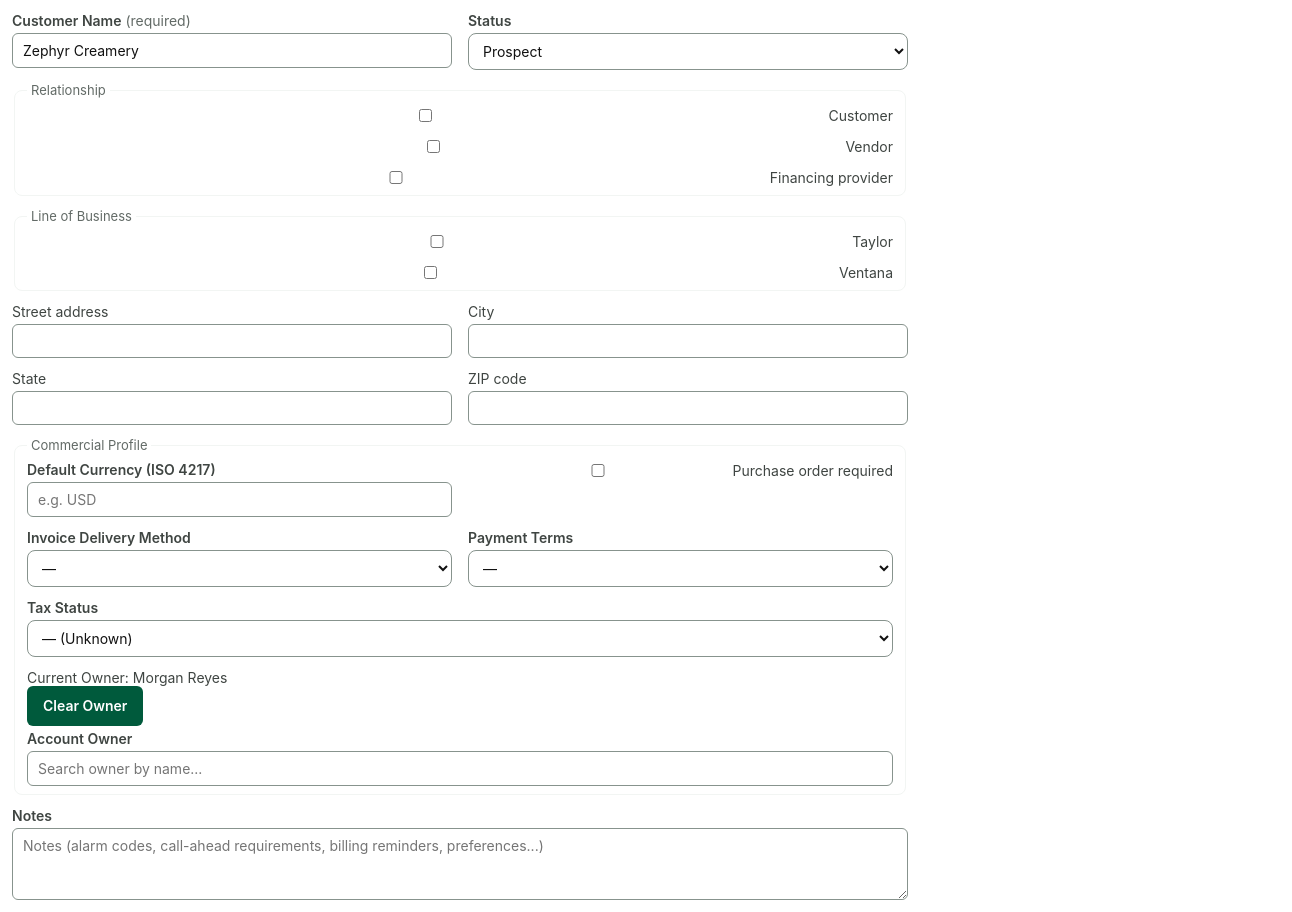
Account owner picker -- the owners the CRM write accepts, from the server › types 2+ characters, offers searchAccountOwnerCandidates' answer, and a pick becomes the EOS_CRM owner
Type "av" into the dropdown labelled "Account Owner" at (460, 768), box [27,751,893,786]
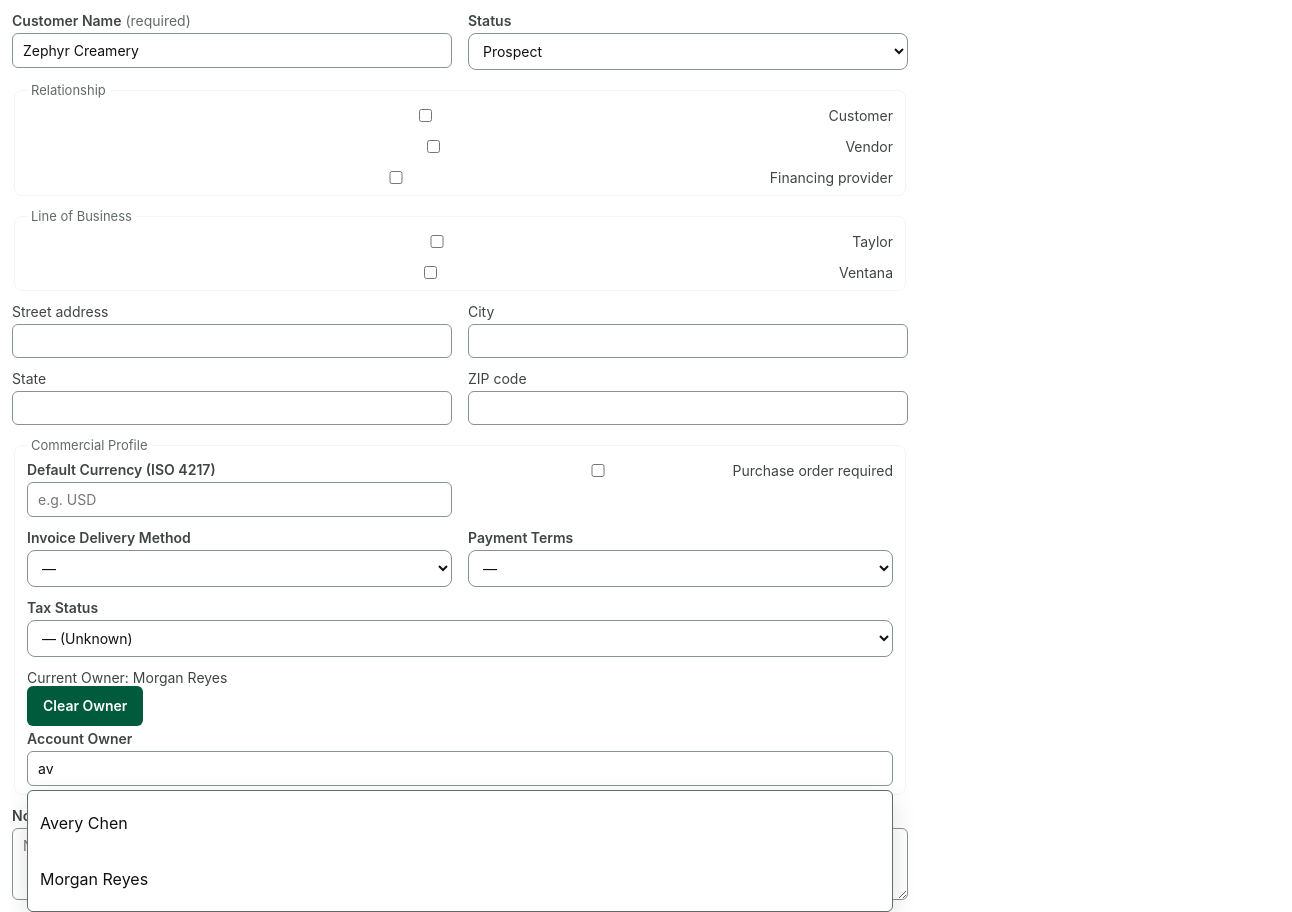
Click the option "Avery Chen" at (84, 823), box [40,813,128,833]
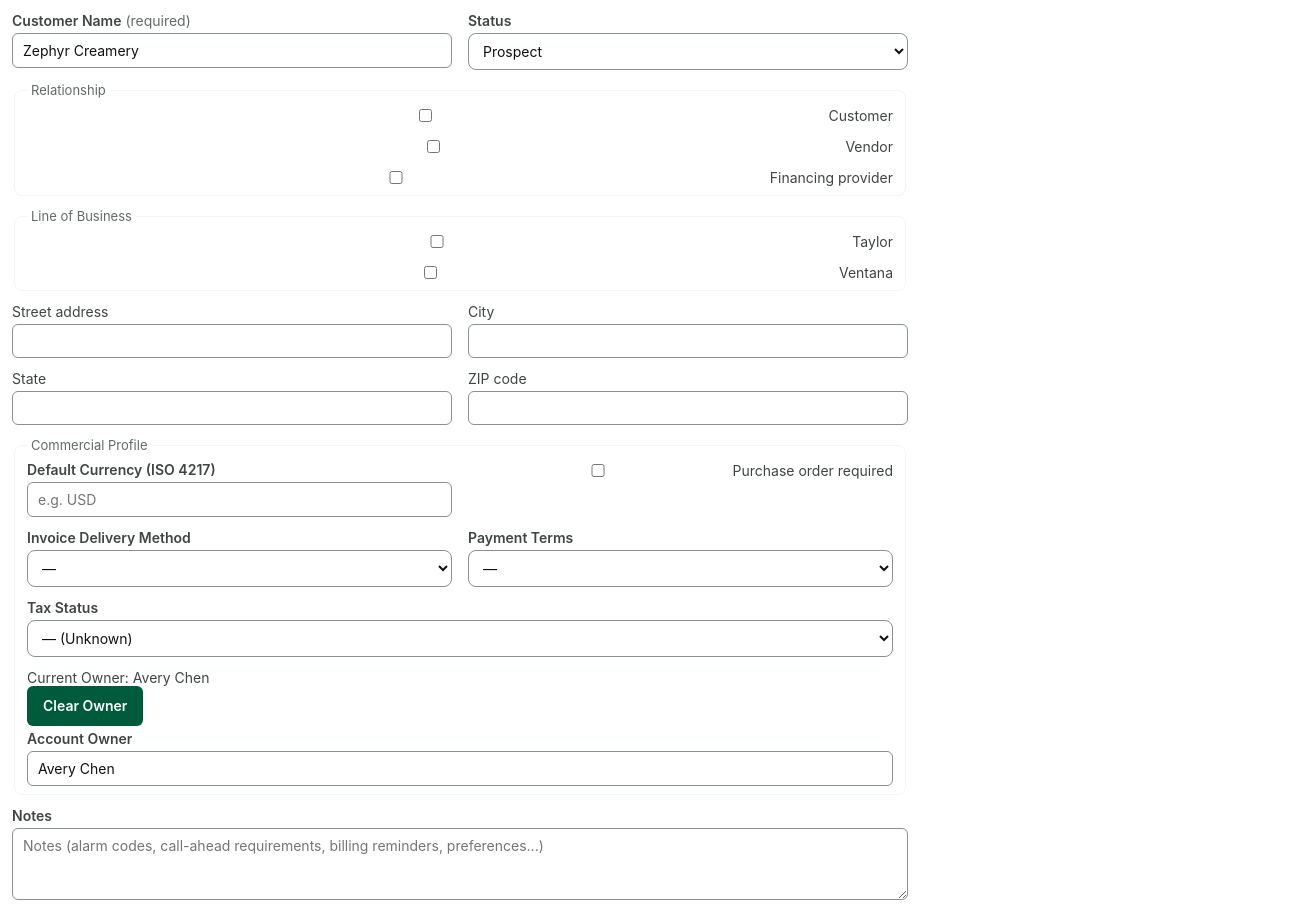
Check: the text "Current Owner: Avery Chen" is shown, box [27,669,210,686]
